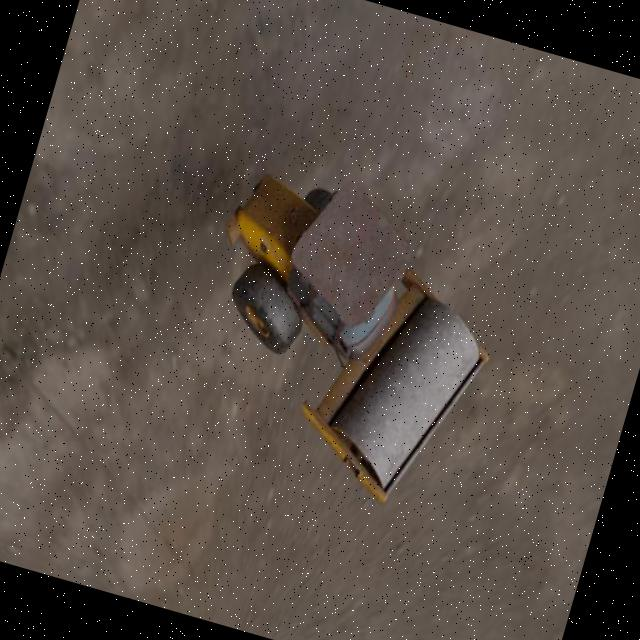Roller: (162, 150, 525, 522)
